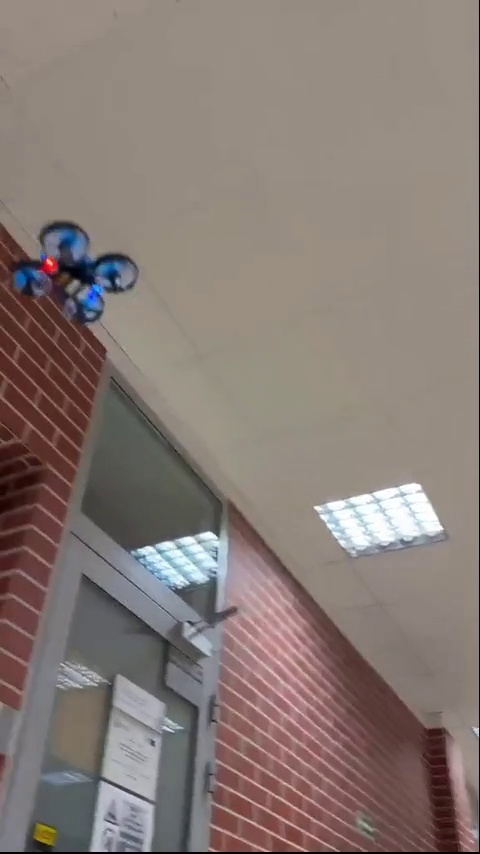drone: (14, 225, 140, 325)
